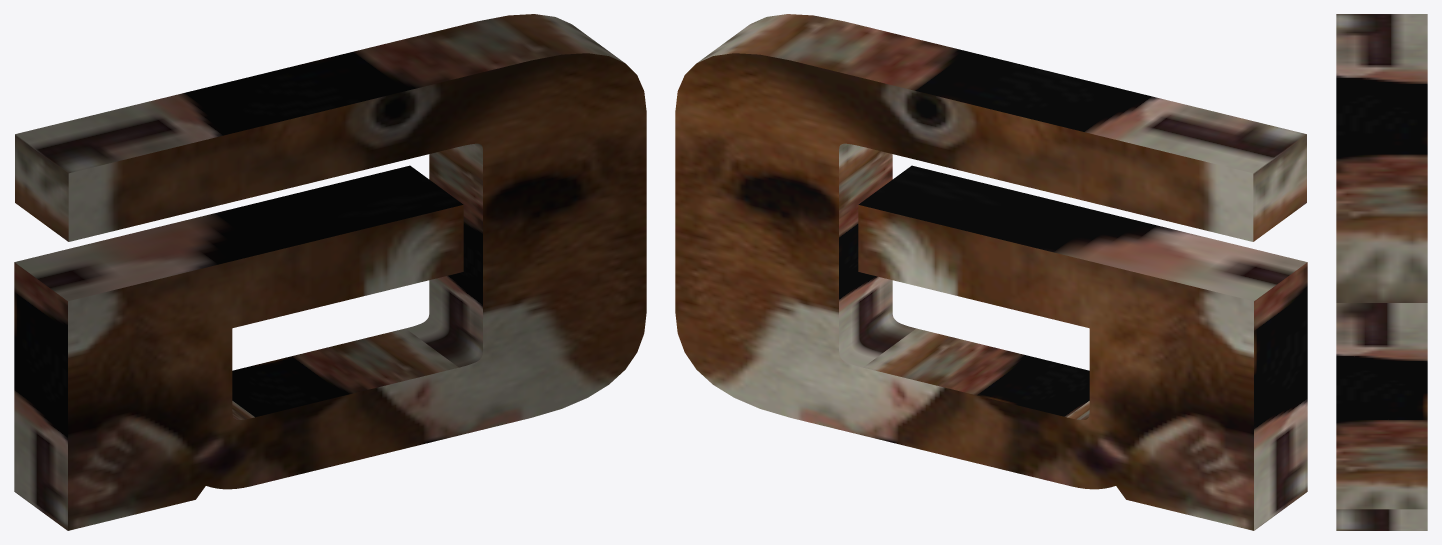
The model's file is icon.ico.obj.
3 views of the same model, side by side, from view 1: azimuth 30°, elevation 25°; view 2: azimuth 150°, elevation 25°; view 3: azimuth 270°, elevation 25° (orthographic). The views are drawn at different scales.
Size of the model in its own units: 4.88 by 2.88 by 0.782.
Materials: 1 (1 with a texture image).
